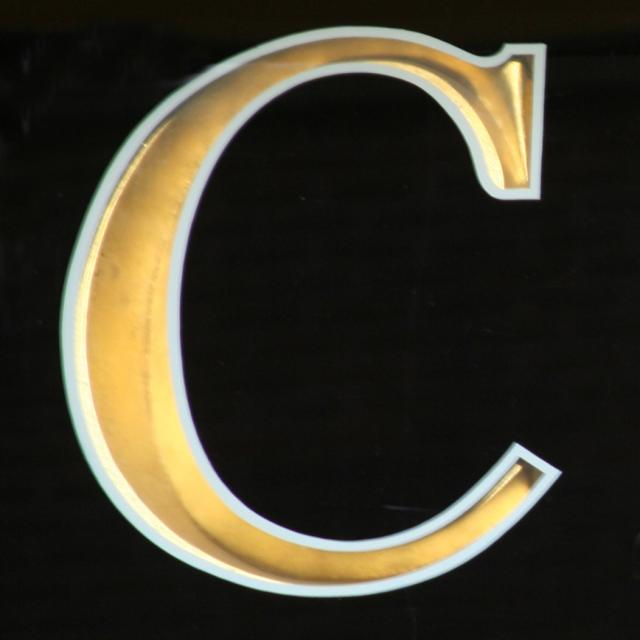C: (14, 14, 596, 612)
